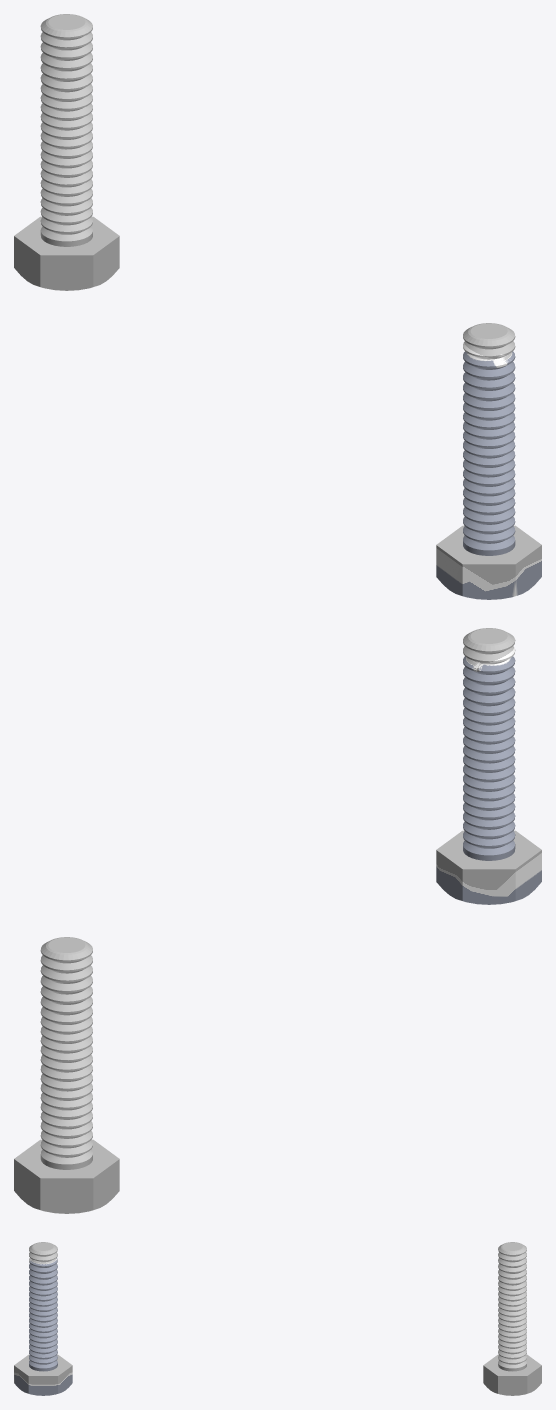
3 views of the same model, one above another, from view 1: azimuth 30°, elevation 25°; view 2: azimuth 150°, elevation 25°; view 3: azimuth 270°, elevation 25° (orthographic). The views are drawn at different scales.
Parts seen in each view (by area): view 1: bolts_ts.001, bolts_ts.002; view 2: bolts_ts.002, bolts_ts.001; view 3: bolts_ts.001, bolts_ts.002.
Boxes of the visible parts, x1=… form: bolts_ts.001: x1=14, y1=14, x2=119, y2=290; bolts_ts.002: x1=436, y1=323, x2=541, y2=599; bolts_ts.002: x1=436, y1=628, x2=541, y2=904; bolts_ts.001: x1=14, y1=937, x2=119, y2=1213; bolts_ts.001: x1=483, y1=1242, x2=541, y2=1395; bolts_ts.002: x1=14, y1=1242, x2=72, y2=1395.
Size of the model in its own units: 0.3476 by 1.04 by 3.6.
Materials: 1 (1 with a texture image).
